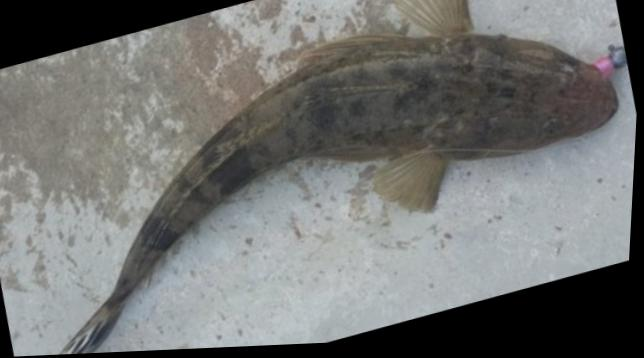fish: (60, 0, 622, 355)
